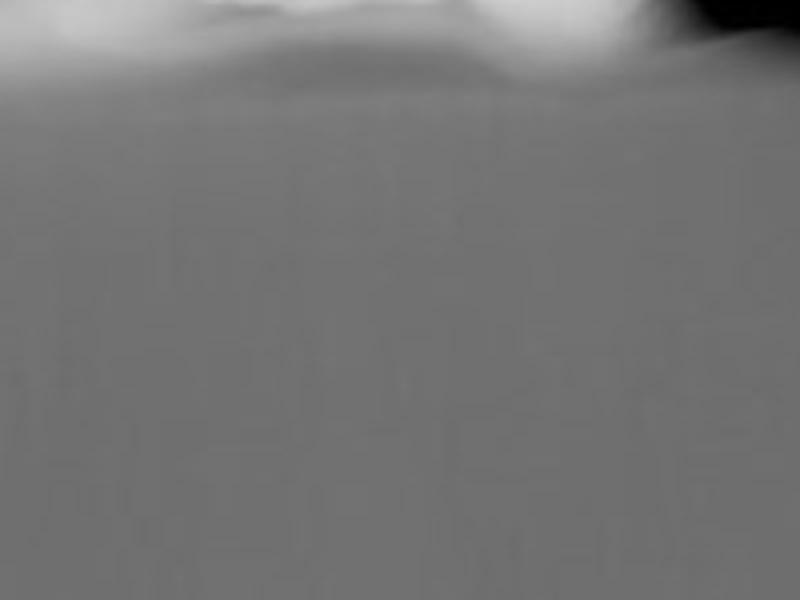defect: (657, 1, 794, 42)
